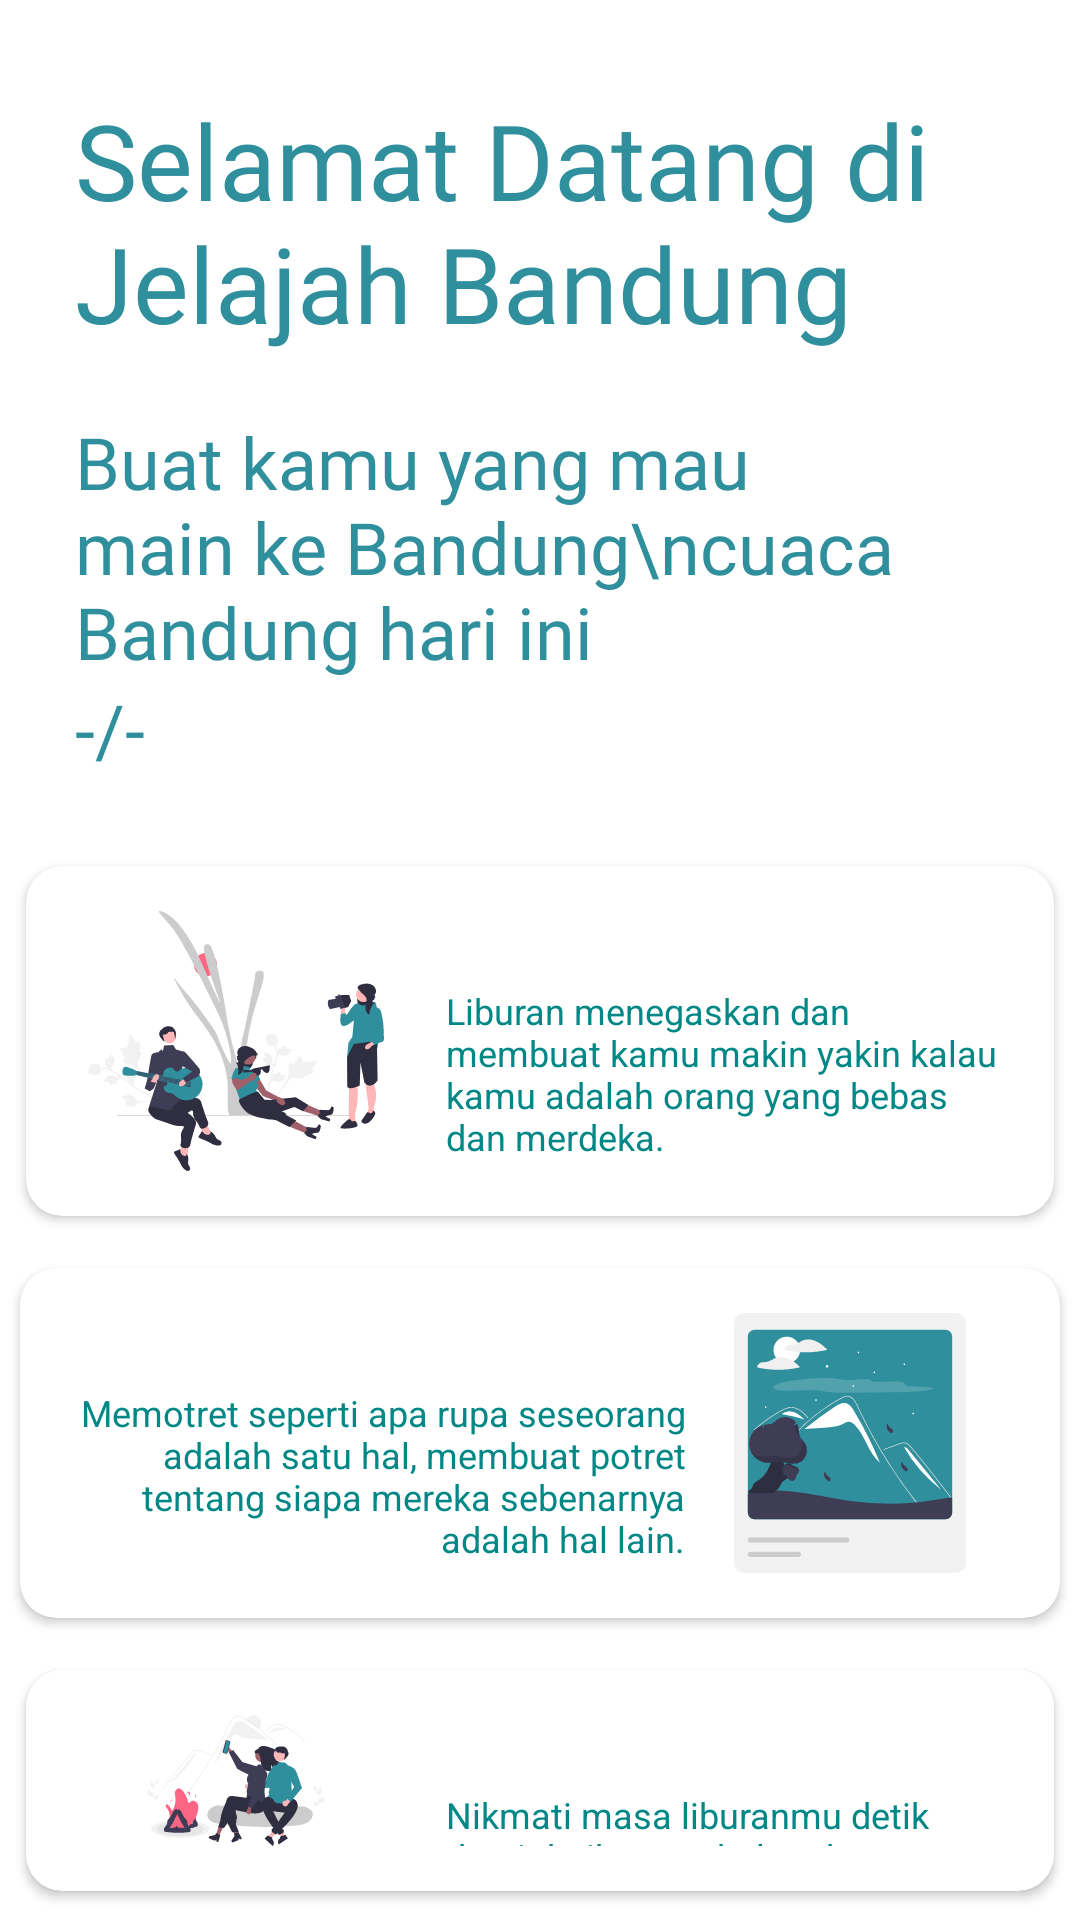

Icons on this 1080 x 1920 Android screen, each with the point to tap as (x=x, y=y):
undraw campfire: (x=235, y=1793)
undraw polaroid: (x=850, y=1443)
